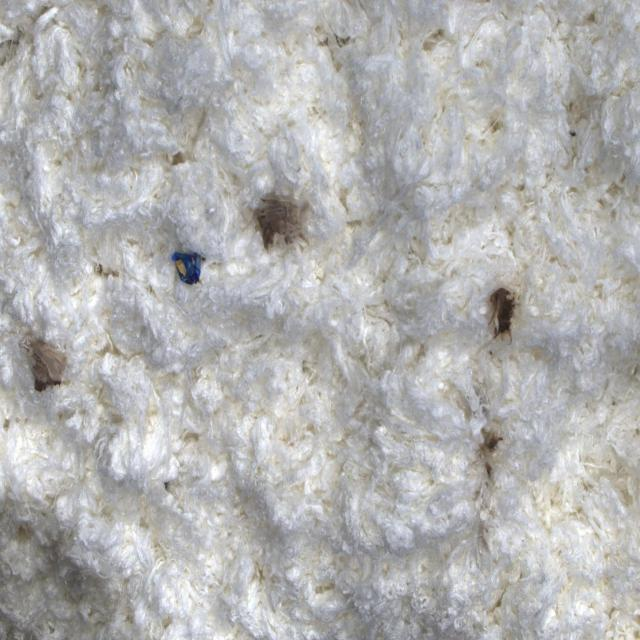dust: (229, 141, 325, 293), (10, 319, 91, 444), (464, 255, 531, 376), (161, 210, 218, 326), (473, 428, 506, 499)
